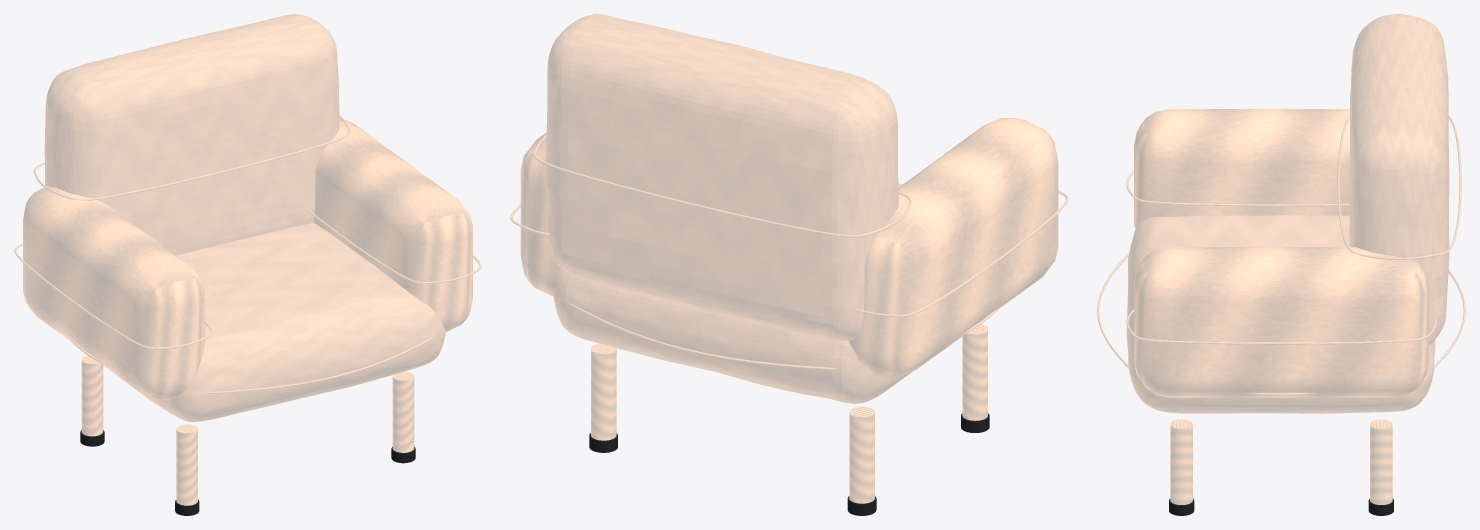
The model's file is ref06_09.glb.
The picture shows the model from 3 angles, left to right: view 1: azimuth 30°, elevation 25°; view 2: azimuth 150°, elevation 25°; view 3: azimuth 270°, elevation 25°; orthographic projection. The views are drawn at different scales.
Visible parts, largest first — view 1: ref06_09; view 2: ref06_09; view 3: ref06_09.
Part boxes in pixels (x1=…): ref06_09: x1=14, y1=14, x2=481, y2=515; ref06_09: x1=510, y1=14, x2=1068, y2=515; ref06_09: x1=1097, y1=14, x2=1465, y2=515.
Bounding box in the file's own units: 0.9449 × 0.9341 × 0.8127.
3 materials, 2 textured.
